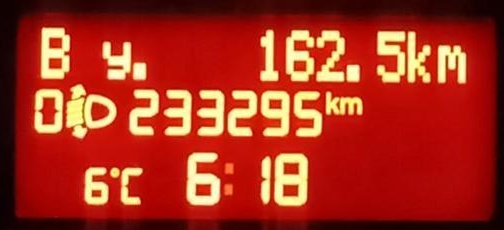-: (131, 58, 147, 82), (343, 61, 360, 83)
0: (31, 86, 63, 135)
1: (255, 25, 282, 83), (251, 151, 272, 205)
2: (315, 25, 344, 83), (130, 87, 158, 137), (227, 88, 256, 136)
3: (163, 87, 191, 137), (196, 87, 224, 137)
5: (371, 25, 405, 85), (291, 88, 321, 138)
6: (182, 149, 221, 207), (284, 27, 316, 83), (80, 165, 107, 206)
8: (274, 150, 310, 207)
9: (258, 88, 288, 137)
X: (39, 22, 71, 82), (405, 25, 431, 85), (97, 36, 131, 80), (436, 41, 467, 85), (119, 164, 142, 205), (220, 159, 236, 197), (339, 93, 361, 116), (324, 88, 338, 116)
